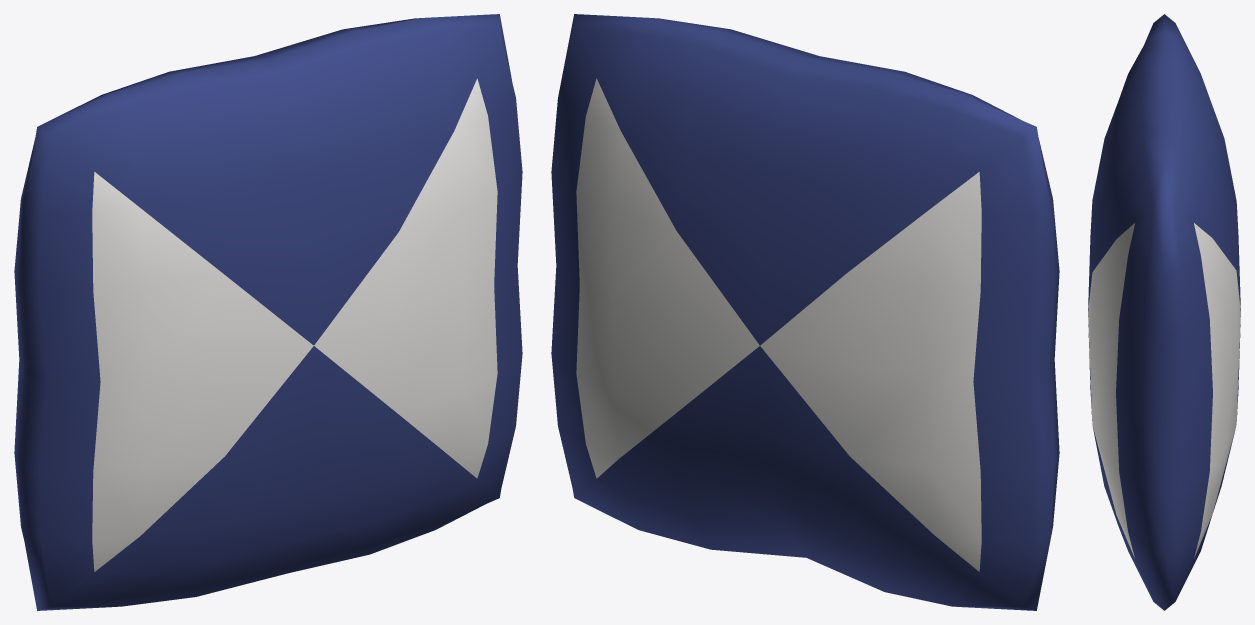
The model's file is Pillow_6.glb.
The picture shows the model from 3 angles, left to right: view 1: azimuth 30°, elevation 25°; view 2: azimuth 150°, elevation 25°; view 3: azimuth 270°, elevation 25°; orthographic projection. The views are drawn at different scales.
Visible parts, largest first — view 1: Pillow_6; view 2: Pillow_6; view 3: Pillow_6.
Boxes of the visible parts, <box> form: Pillow_6: <box>14,14,522,610</box>; Pillow_6: <box>551,14,1059,610</box>; Pillow_6: <box>1088,14,1240,610</box>.
Size of the model in its own units: 0.6133 by 0.6133 by 0.1942.
1 material, 1 textured.
